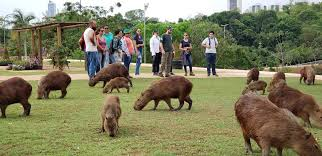capivara: (235, 92, 322, 156), (268, 84, 322, 131), (134, 75, 193, 113), (1, 77, 32, 121), (88, 62, 133, 88), (35, 71, 72, 101), (101, 94, 121, 138), (103, 77, 130, 94), (242, 81, 268, 96), (299, 66, 316, 86), (246, 67, 259, 85)
